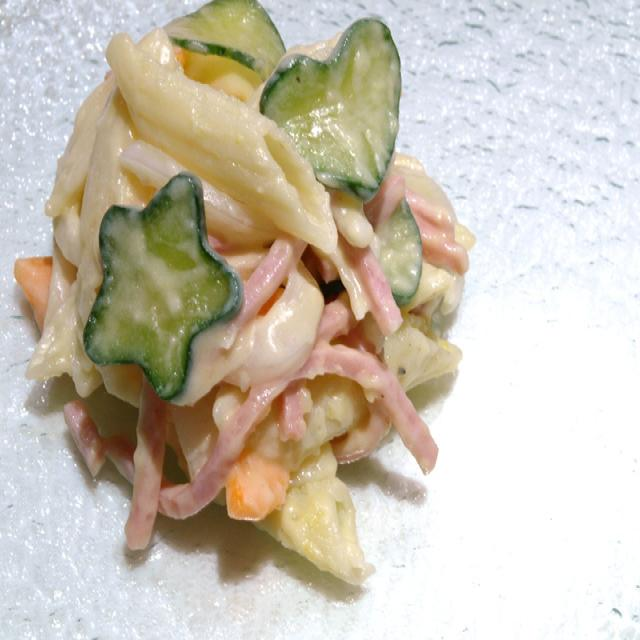蔬菜料理: (14, 0, 448, 548)
